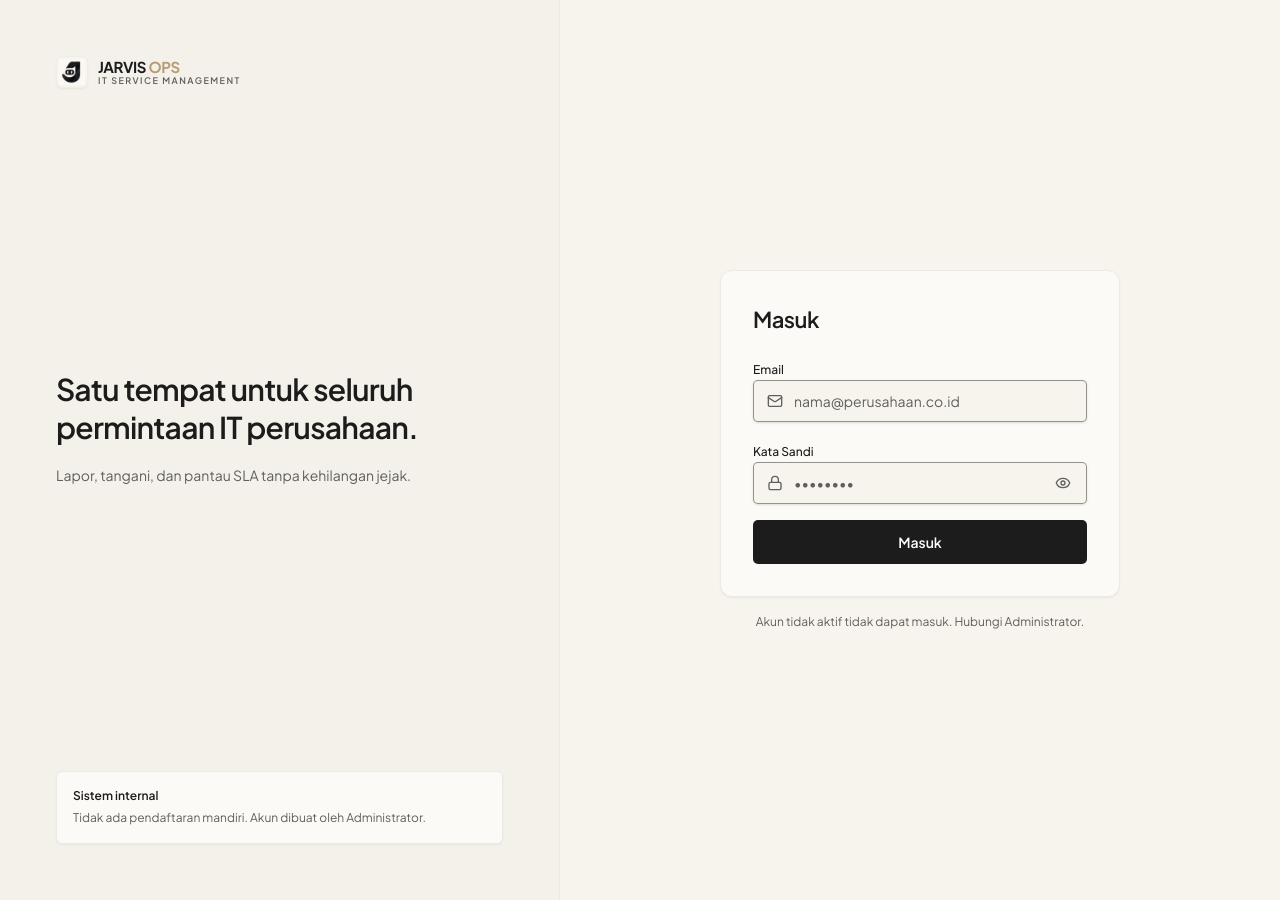
Test: Login Page Form › toggles password visibility when visibility button clicked
Click the button named "tampilkan kata sandi" at (1063, 482), box 1053,472 -> 1073,492
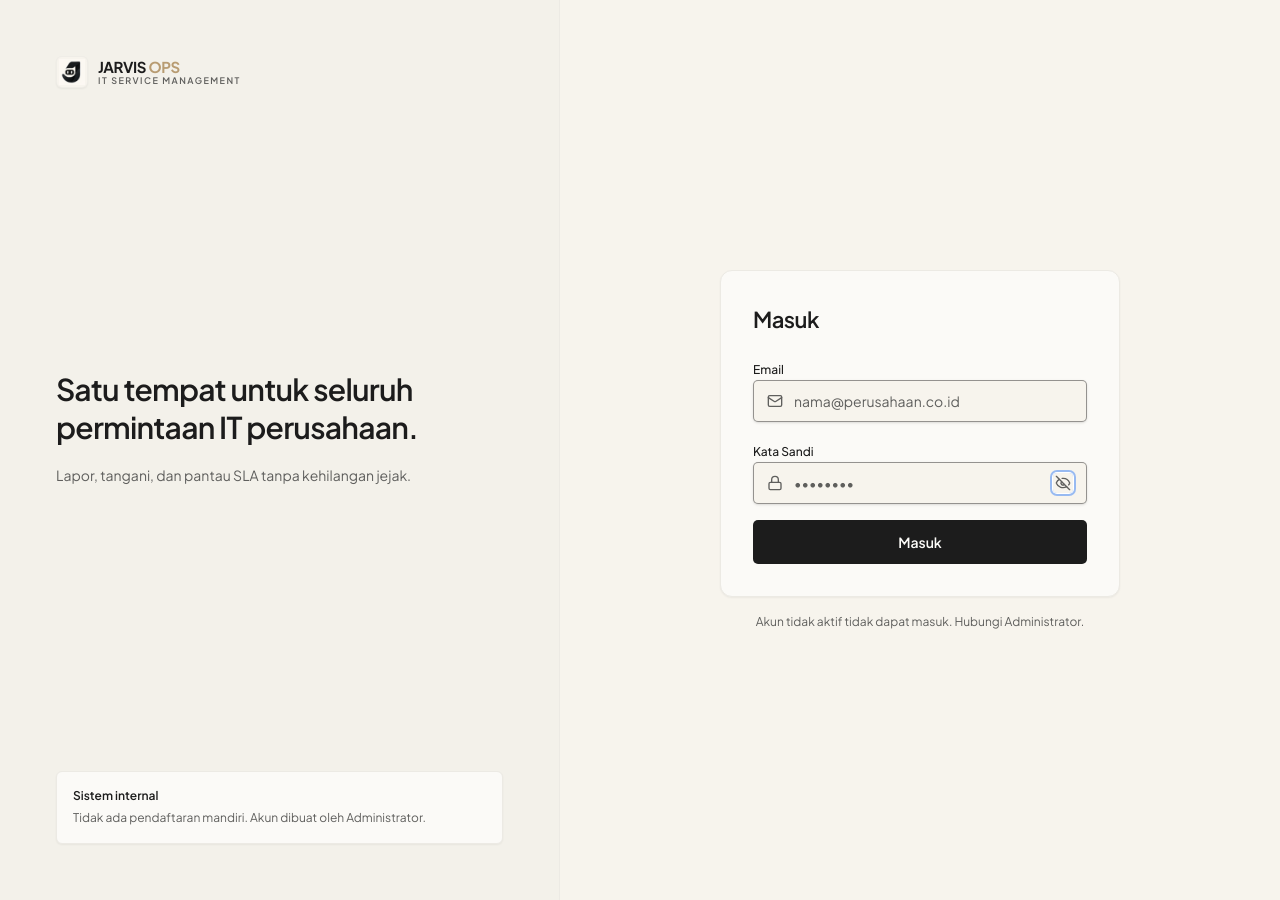
Expected: the button named "sembunyikan kata sandi" is shown, 1053,472 -> 1073,492
